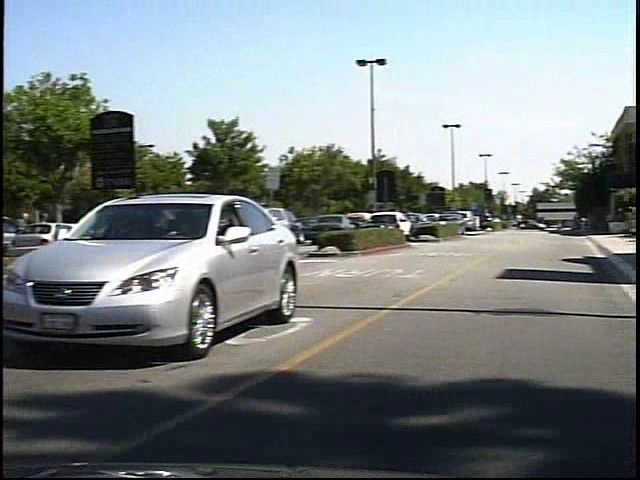person: (526, 211, 539, 234)
